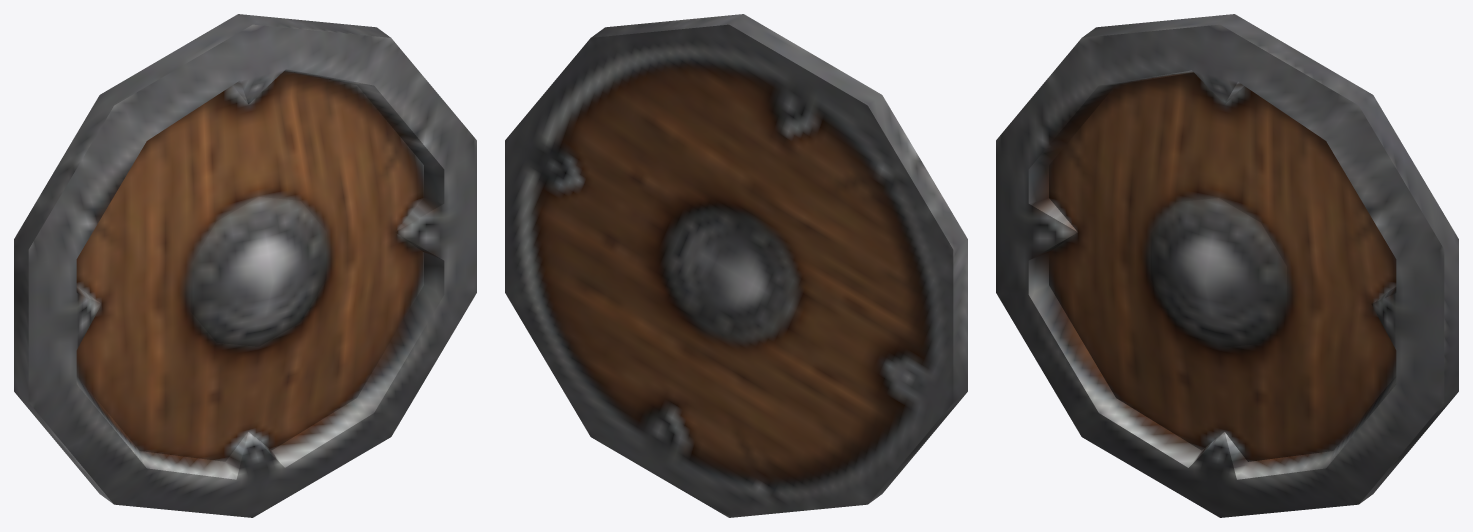
Rendered from shield-a.glb.
3 renders of one model, left to right at view 1: azimuth 30°, elevation 25°; view 2: azimuth 150°, elevation 25°; view 3: azimuth 330°, elevation 25°, orthographic.
Size of the model in its own units: 0.8869 by 0.9326 by 0.1112.
1 material, 1 textured.
